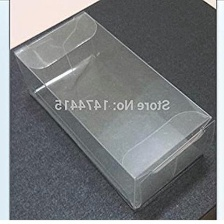plastic_box: (10, 5, 217, 214)
